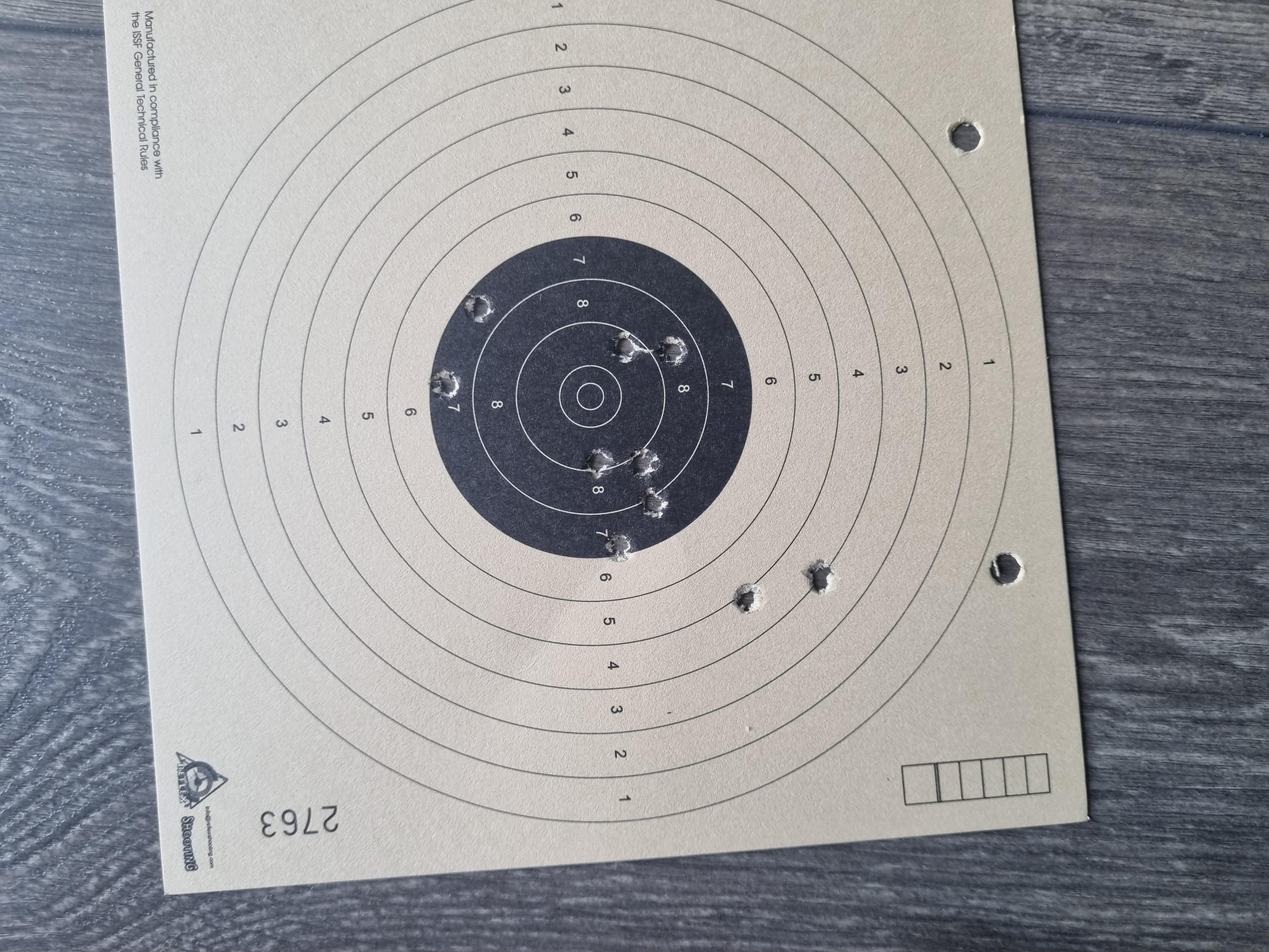hole: (786, 457, 827, 490), (475, 602, 522, 626), (629, 472, 671, 496), (576, 479, 621, 501), (781, 493, 822, 517), (448, 550, 492, 572), (736, 322, 776, 345), (630, 439, 670, 462), (838, 348, 876, 370), (519, 455, 556, 473)
